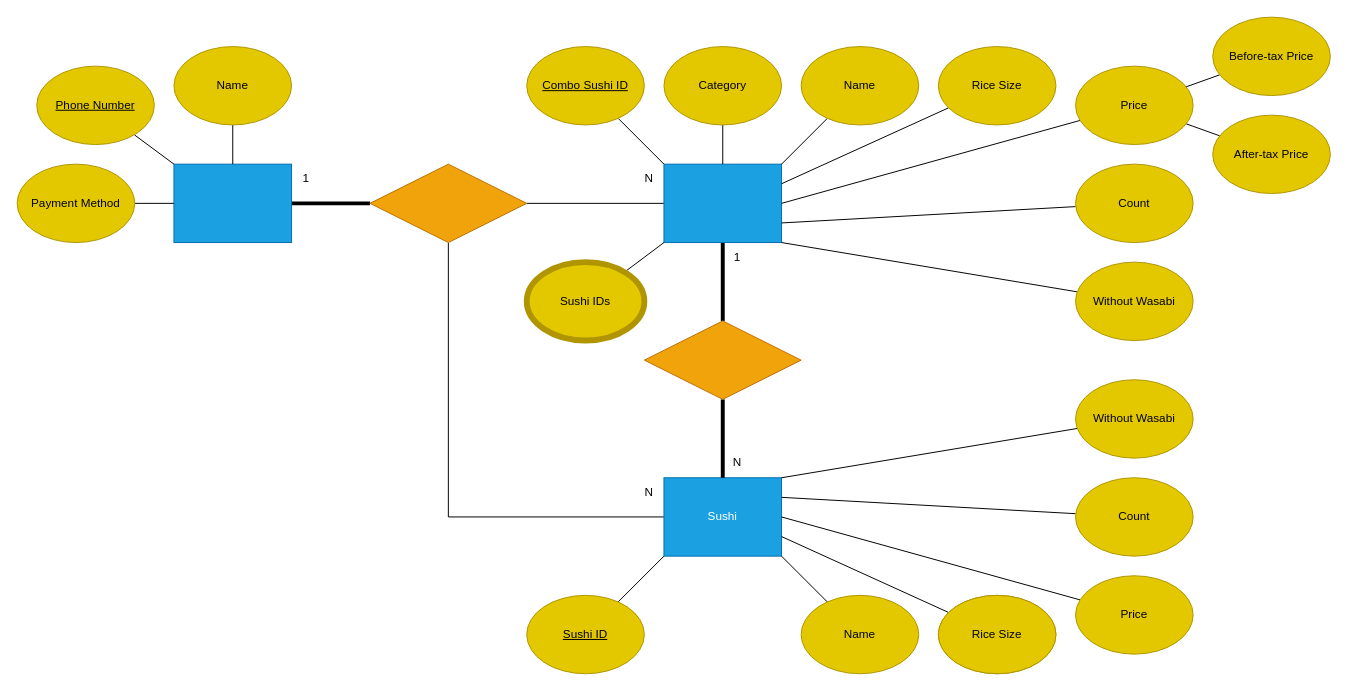
The diagram is 1348 pixels wide and 691 high, and some of its shapes have lost their labels. Each missing label, with the centre of its shape:
Combo Sushi: the point at 722,203
Contains: the point at 722,359
Orderer: the point at 232,203
Orders: the point at 448,203
